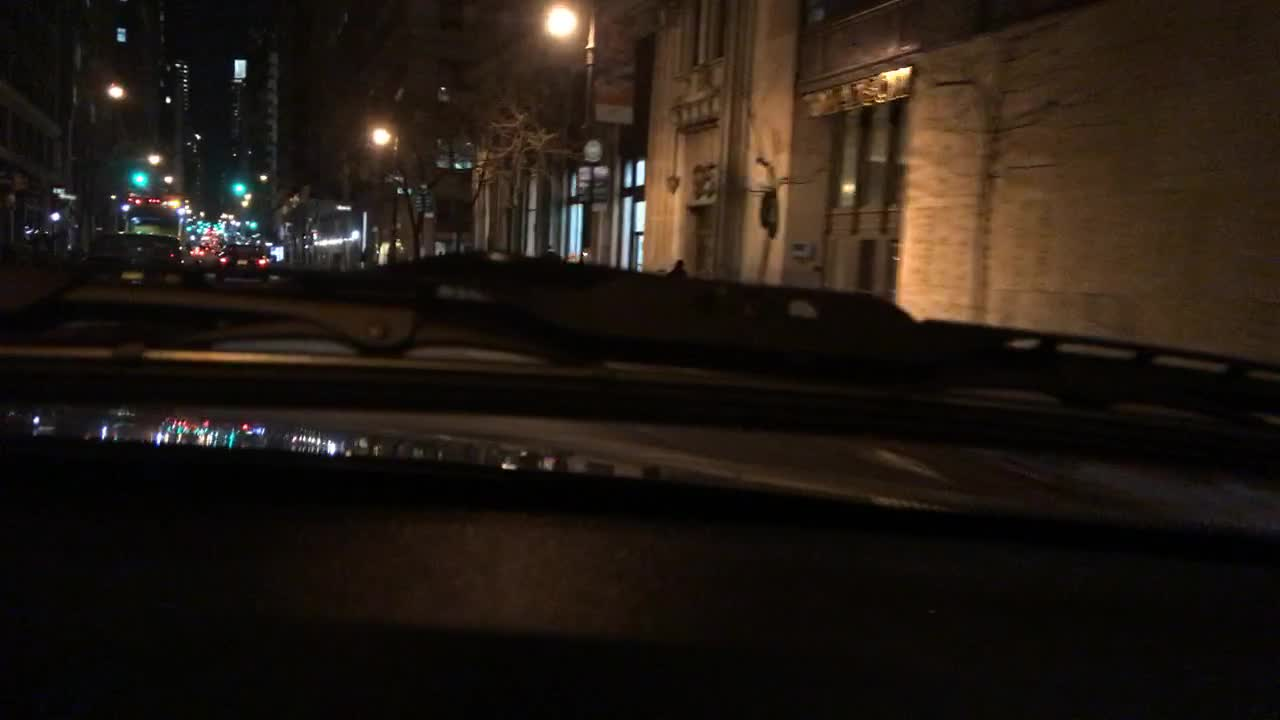bus: (124, 203, 181, 232)
car: (94, 233, 181, 290), (213, 243, 274, 279), (189, 242, 206, 260)
traffic light: (233, 175, 244, 193), (134, 168, 143, 182)
